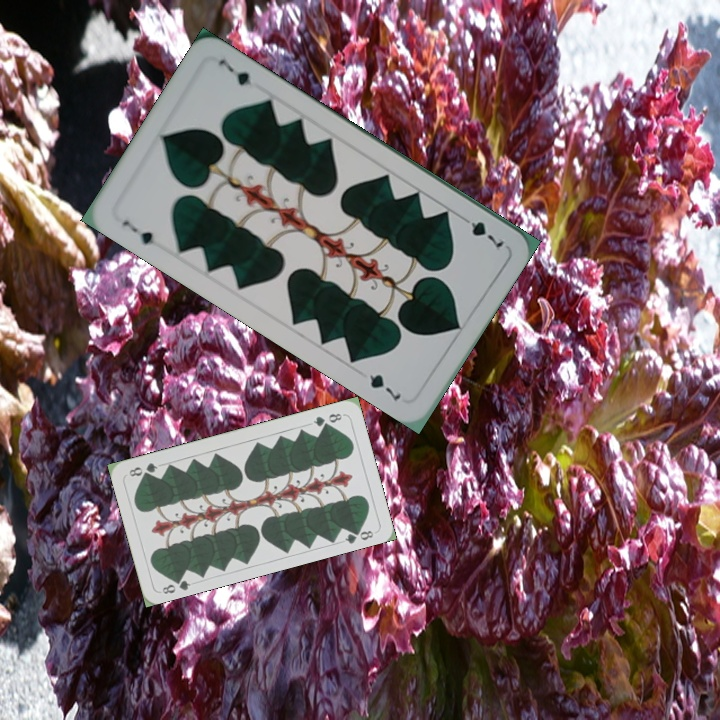G7: (455, 211, 507, 251), (118, 216, 157, 248)
G8: (158, 572, 193, 597), (309, 409, 344, 429)
